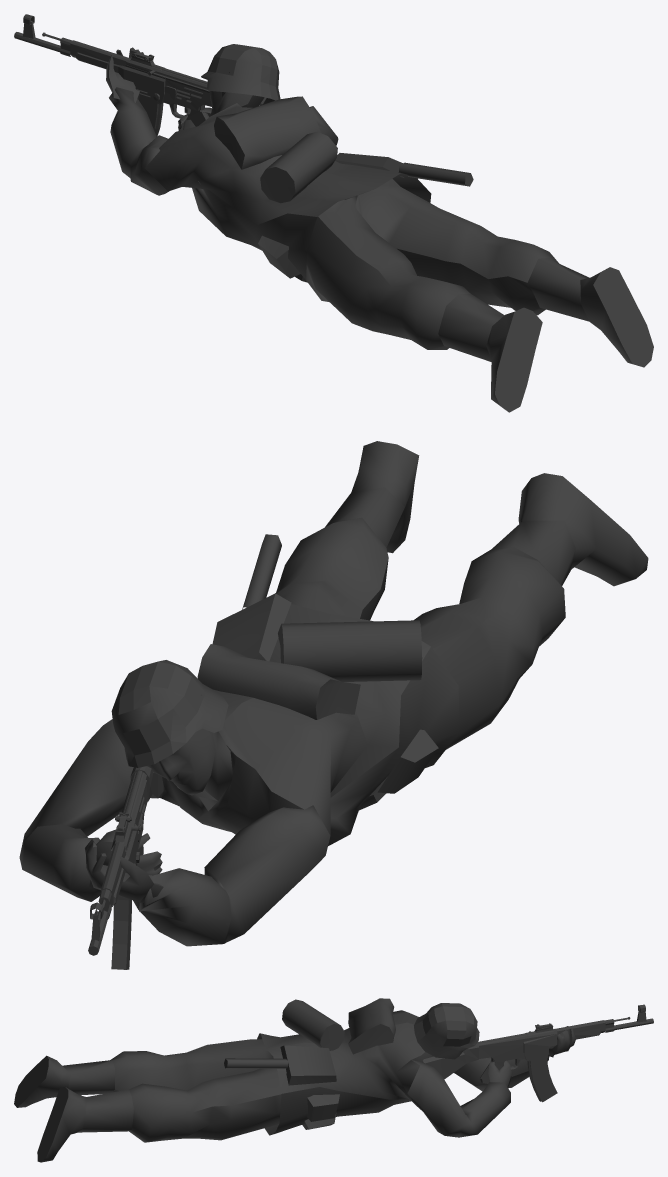
Rendered from de_stg_prono.glb.
3 renders of one model, top to bottom at view 1: azimuth 30°, elevation 25°; view 2: azimuth 150°, elevation 25°; view 3: azimuth 270°, elevation 25°, orthographic. The views are drawn at different scales.
Visible parts, largest first — view 1: SketchUp.045_ID2.001_18; view 2: SketchUp.045_ID2.001_18; view 3: SketchUp.045_ID2.001_18.
Boxes of the visible parts, x1,y1,x2,y2 form: SketchUp.045_ID2.001_18: [14, 14, 653, 412]; SketchUp.045_ID2.001_18: [19, 441, 648, 969]; SketchUp.045_ID2.001_18: [14, 998, 653, 1162].
Bounding box in the file's own units: 0.2344 × 0.1494 × 0.7036.
Materials: 1 (1 with a texture image).
